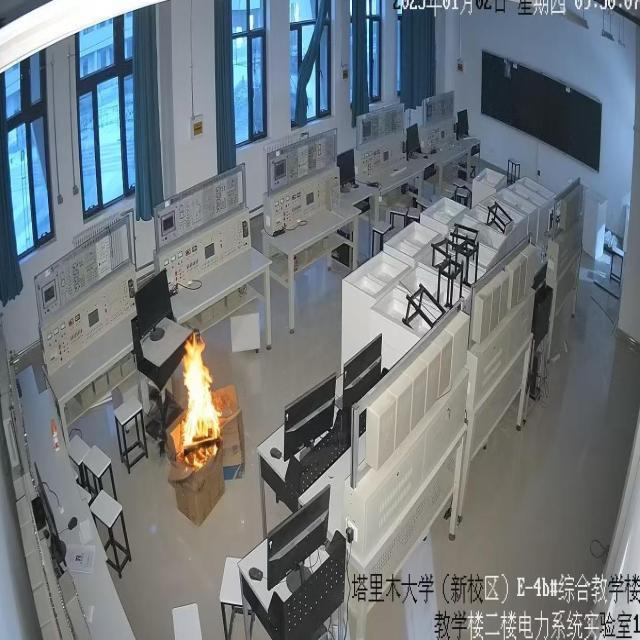smoke: (172, 330, 223, 466), (50, 418, 60, 451)
